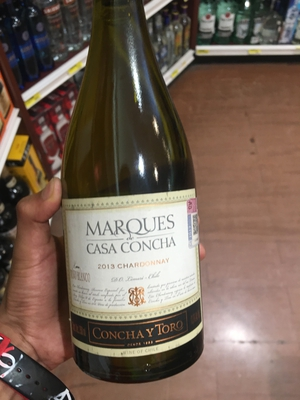marques de casa concha chardonnay: (38, 16, 233, 383)
